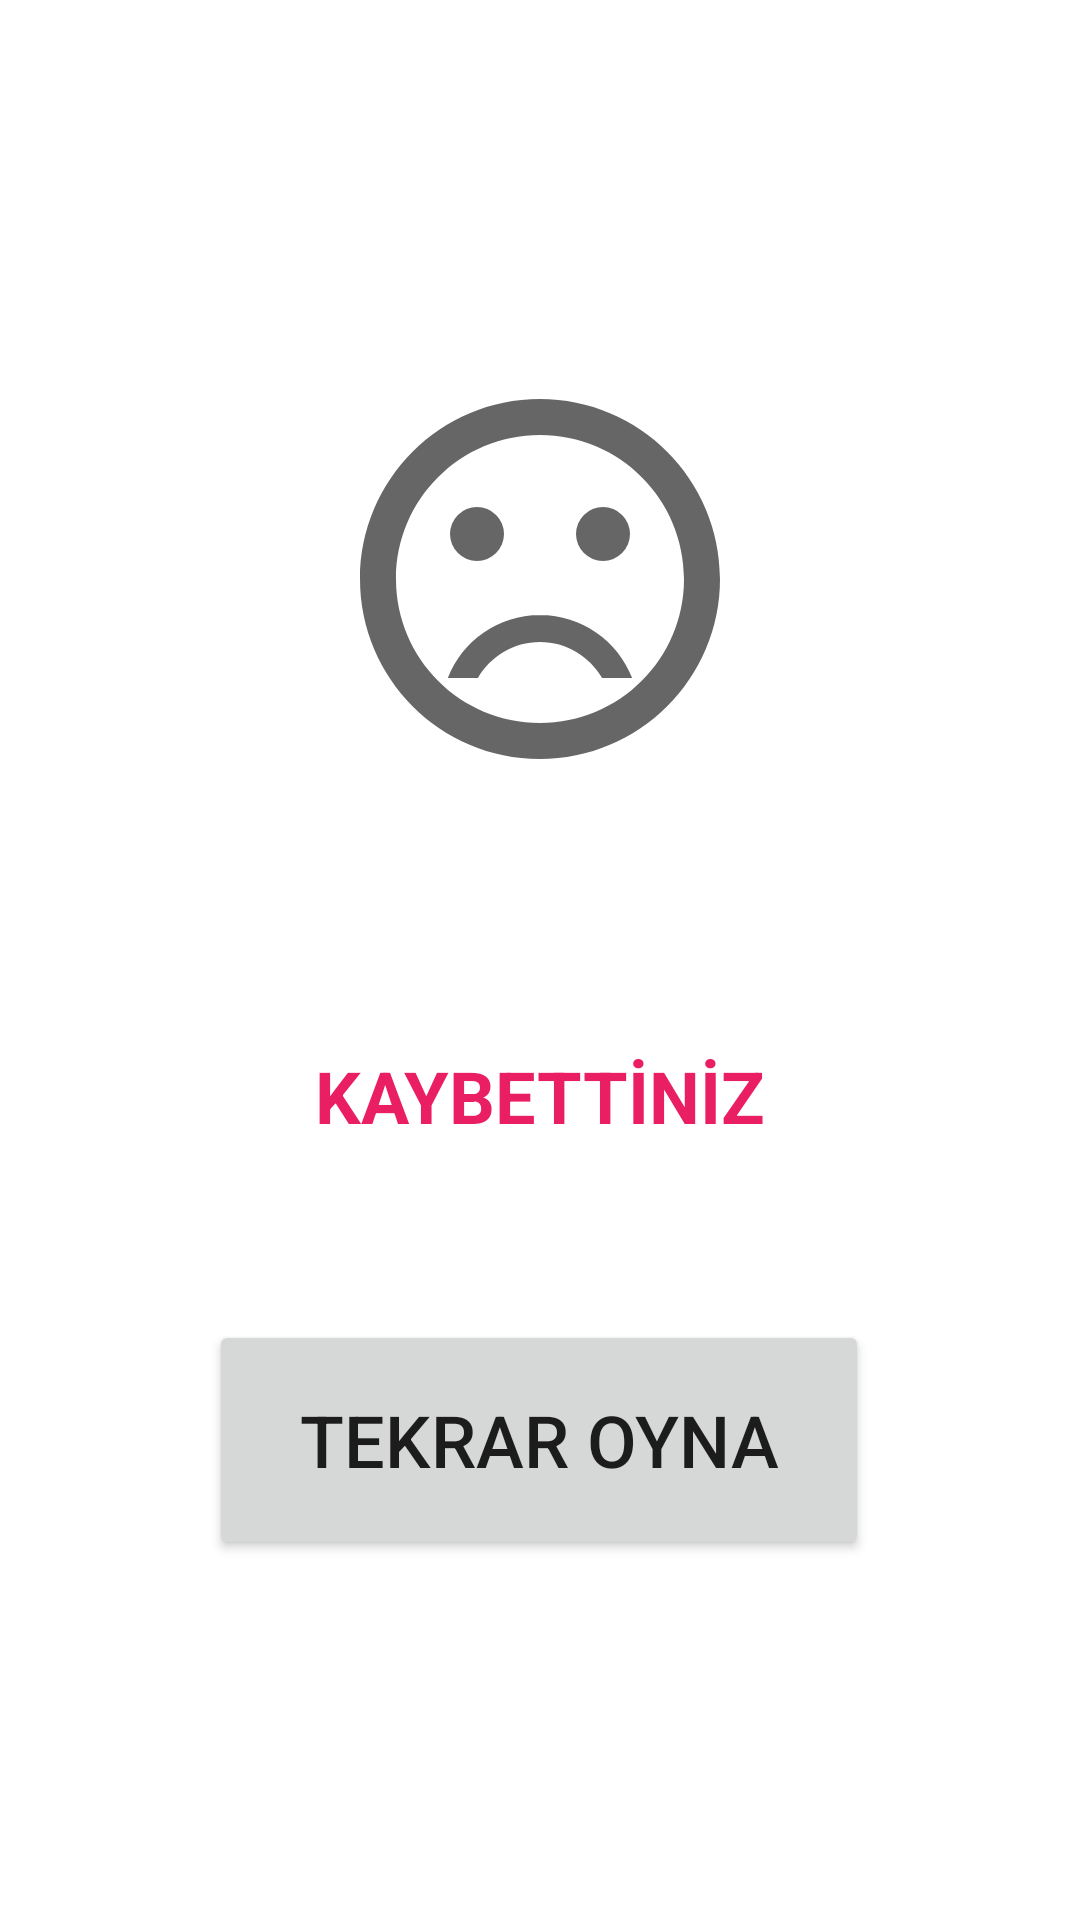

Screen size 1080 × 1920. Icon name, then its center in pixels as point (x, y):
uzgun resim: point (540, 579)
